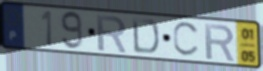1: (40, 10, 55, 48)
9: (59, 10, 86, 52)
C: (171, 21, 202, 59)
D: (130, 16, 161, 56)
R: (95, 13, 129, 54), (203, 22, 237, 63)
